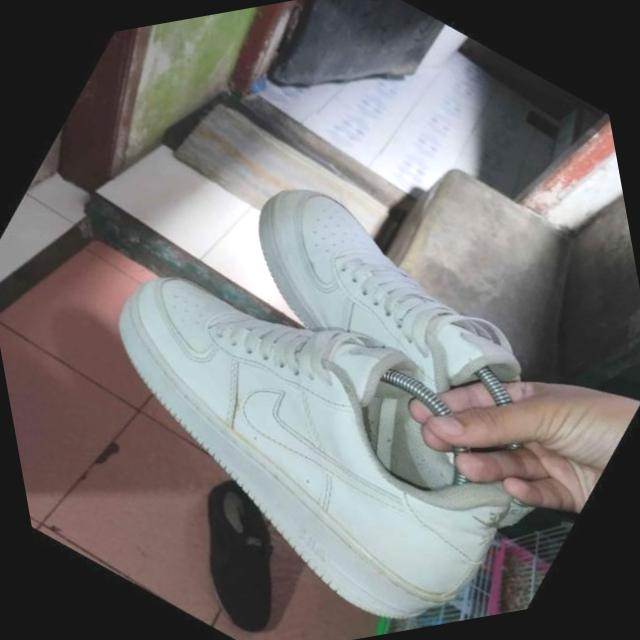nike_fake_airforce: (14, 159, 585, 640), (149, 115, 640, 589)
